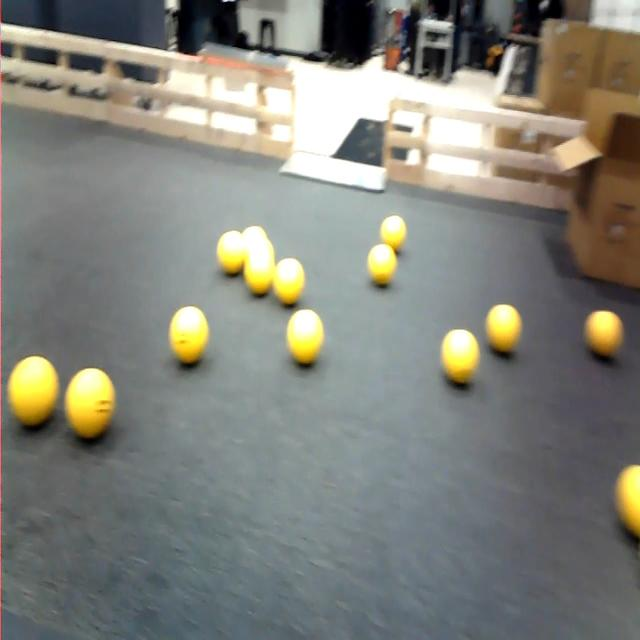fuel: (8, 356, 59, 426), (65, 368, 115, 439), (169, 306, 208, 364), (441, 329, 479, 384), (287, 310, 323, 365), (584, 311, 623, 358), (486, 304, 521, 353), (615, 466, 639, 537), (244, 245, 274, 295), (273, 258, 304, 305), (217, 230, 245, 275), (368, 244, 396, 286), (380, 216, 406, 252), (245, 238, 274, 263), (242, 226, 267, 246)
